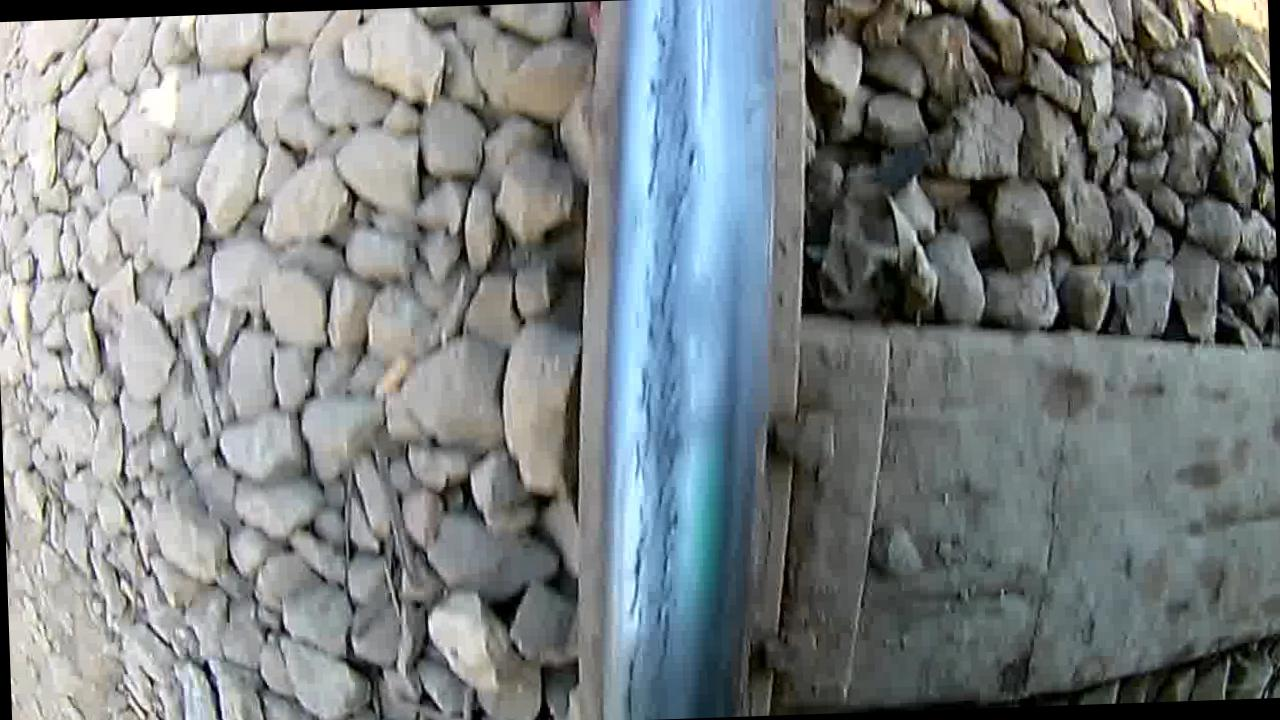normal_track: (602, 0, 725, 720)
